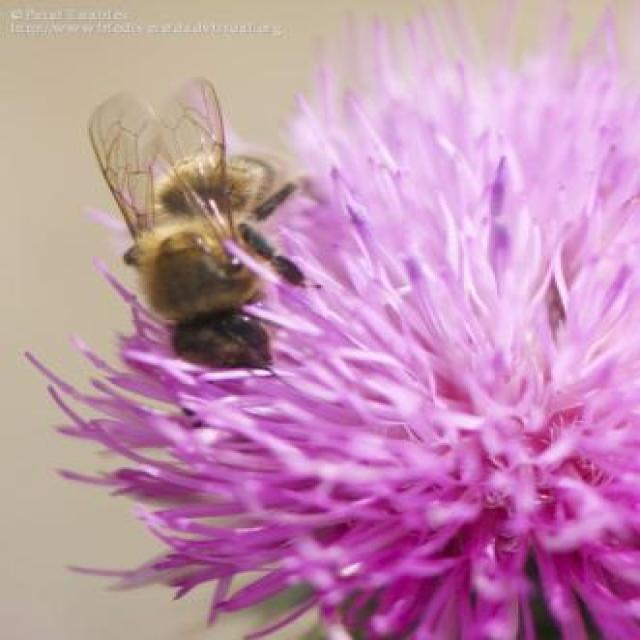body: (129, 153, 295, 367)
insect: (84, 76, 322, 382)
legs: (230, 220, 325, 290), (249, 172, 323, 224)
wings: (159, 80, 238, 254), (88, 85, 165, 239)
